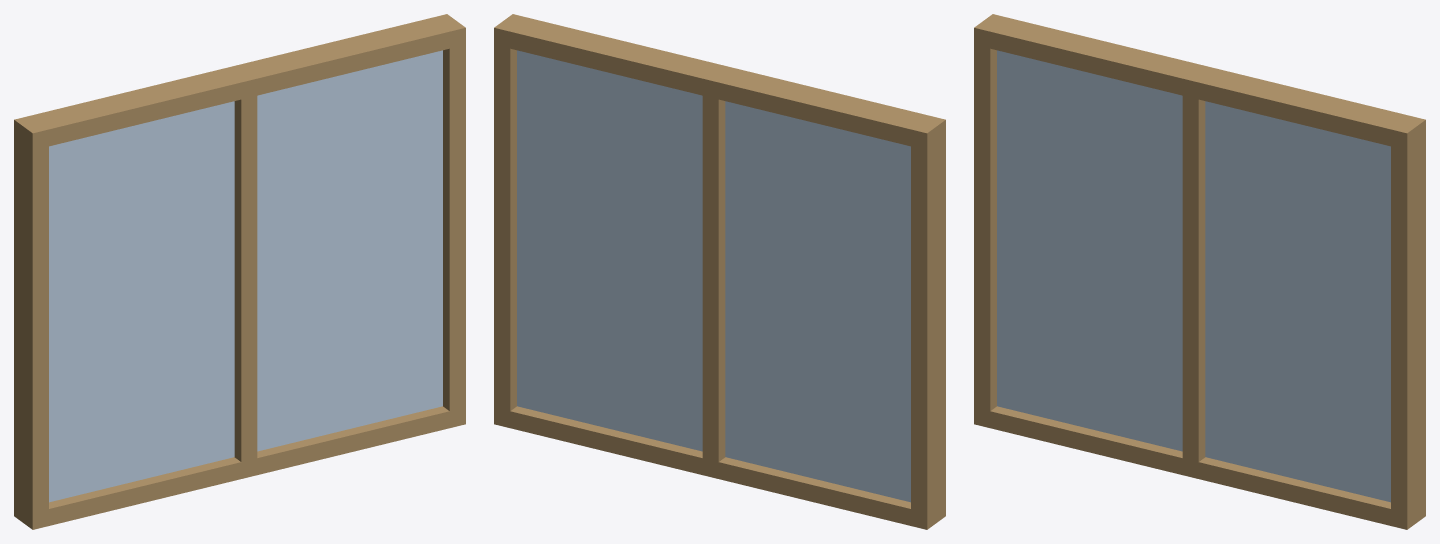
The picture shows the model from 3 angles, left to right: view 1: azimuth 30°, elevation 25°; view 2: azimuth 150°, elevation 25°; view 3: azimuth 330°, elevation 25°; orthographic projection.
Visible parts, largest first — view 1: window_glass, frame; view 2: window_glass, frame; view 3: window_glass, frame.
Part boxes in pixels (x1=…): window_glass: x1=49, y1=50, x2=442, y2=502; frame: x1=14, y1=14, x2=465, y2=529; window_glass: x1=517, y1=50, x2=910, y2=502; frame: x1=494, y1=14, x2=945, y2=529; window_glass: x1=997, y1=50, x2=1390, y2=502; frame: x1=974, y1=14, x2=1425, y2=529.
Bounding box in the file's own units: 1.6 × 1.4 × 0.12.
2 materials, 2 textured.
